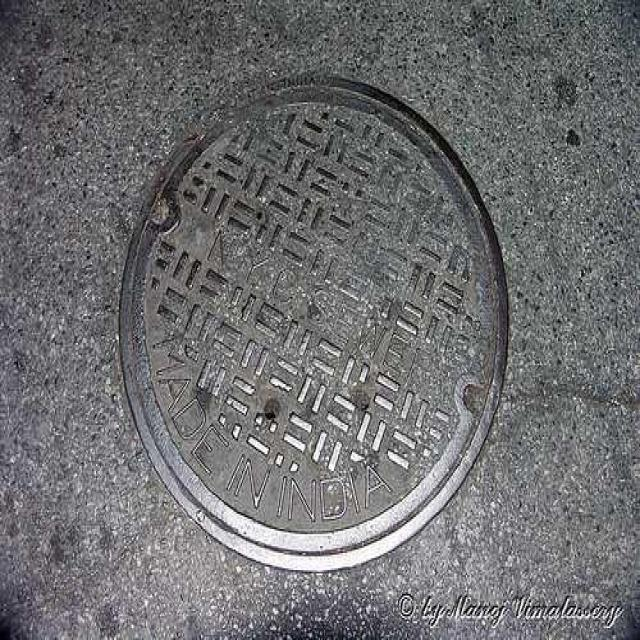manhole: (120, 80, 507, 571)
